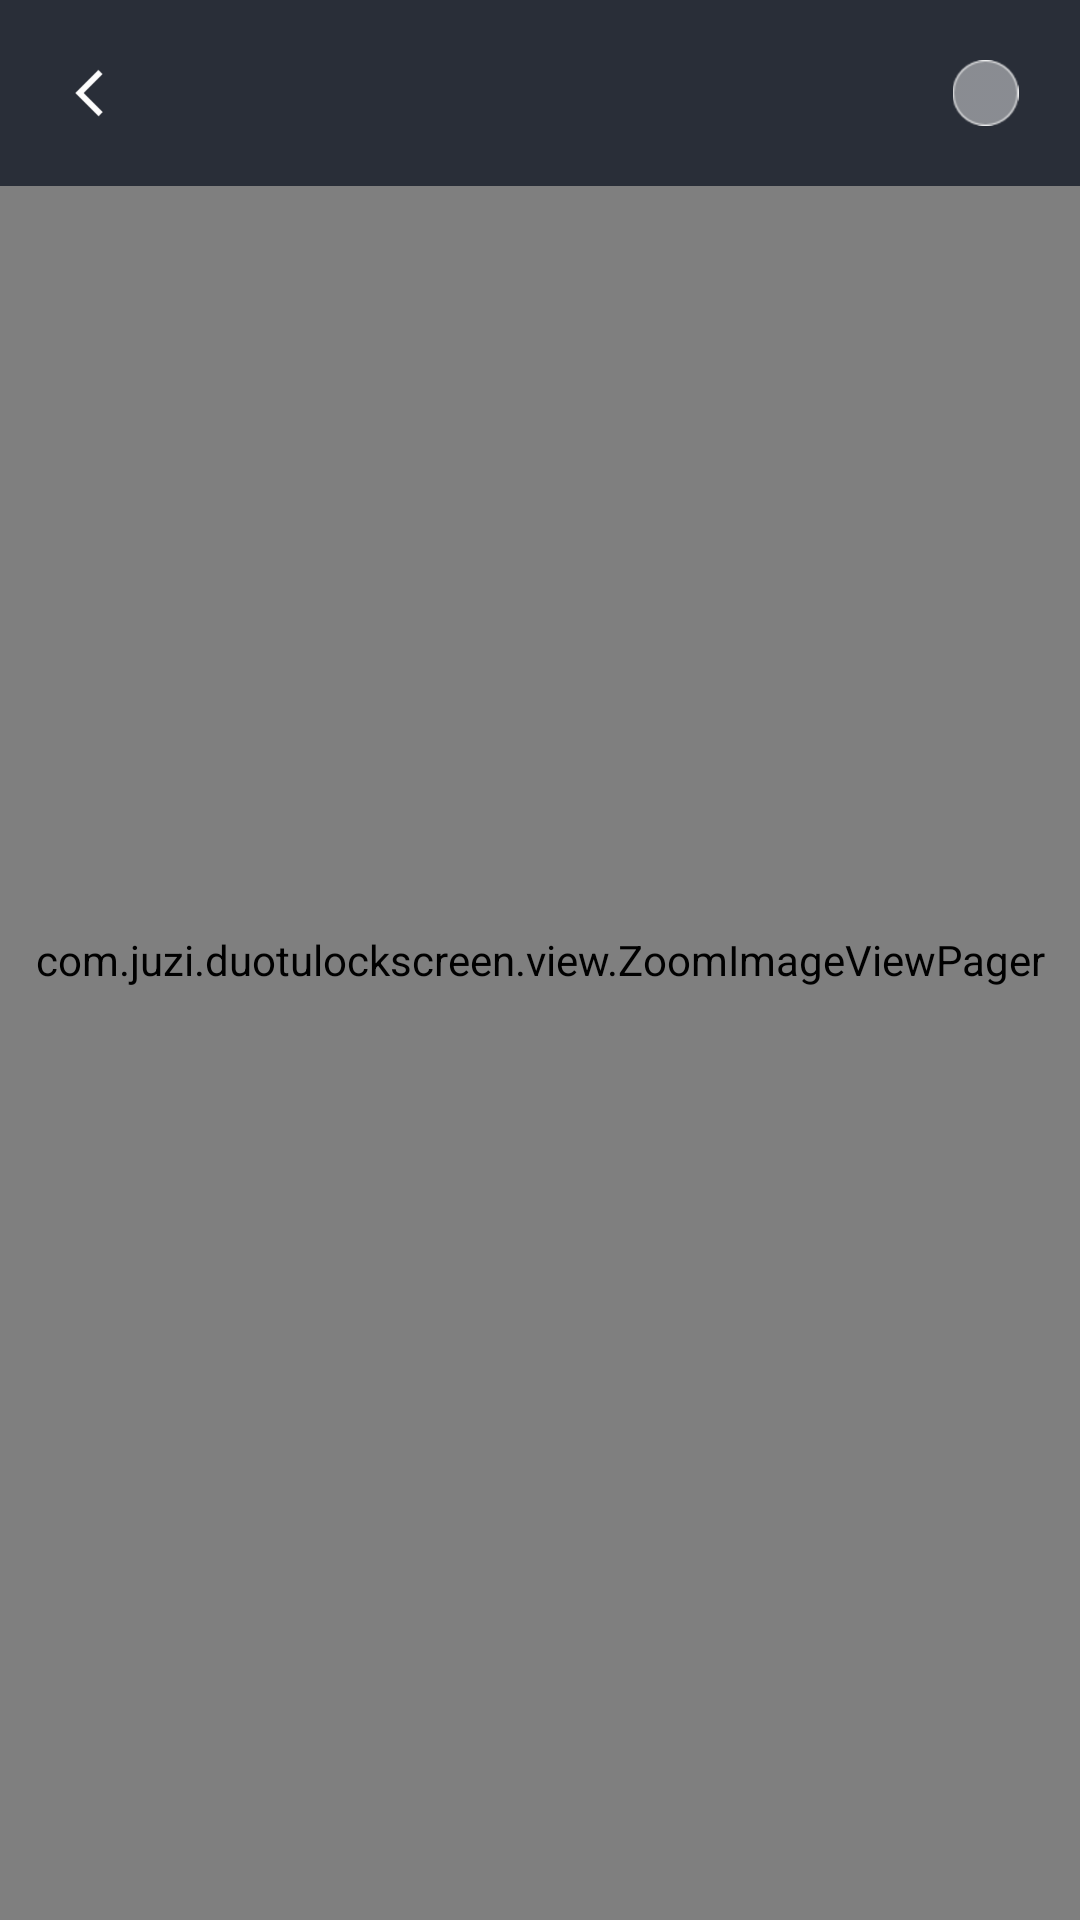

Icon click points for this 1080 × 1920 phone screenshot, format (x=x, y=y):
back: (x=89, y=93)
